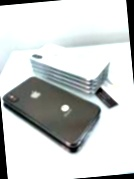iphone: (2, 73, 99, 154)
